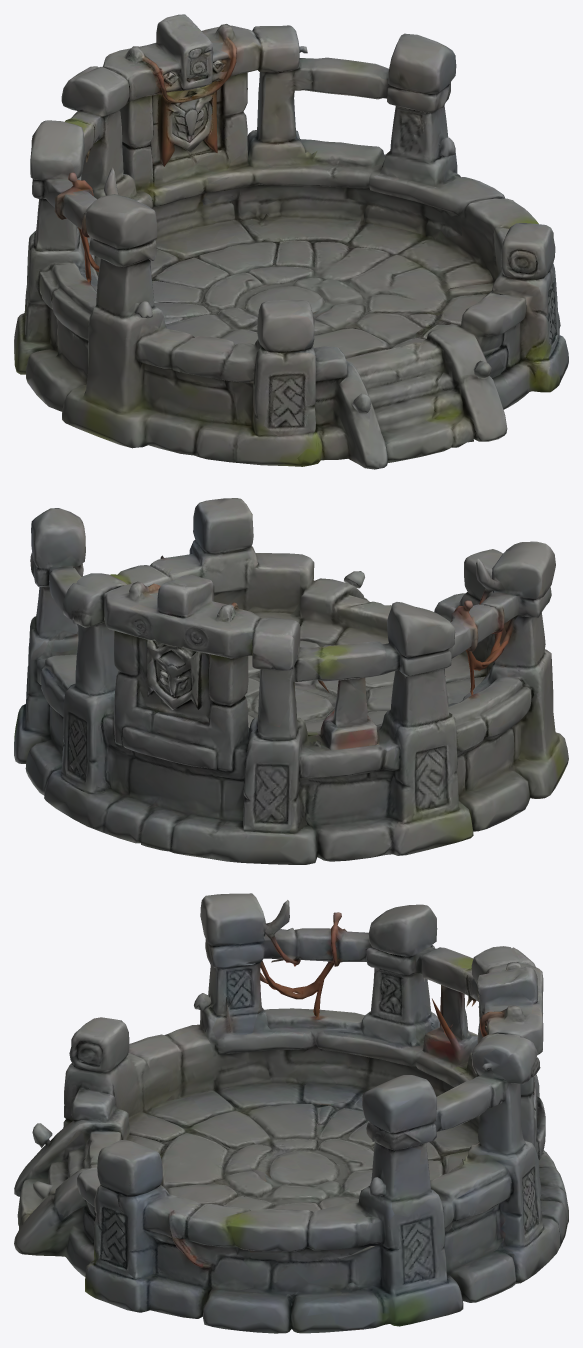
Rendered from skskskzjxjsjs.fbx.
The picture shows the model from 3 angles, top to bottom: view 1: azimuth 30°, elevation 25°; view 2: azimuth 150°, elevation 25°; view 3: azimuth 270°, elevation 25°; orthographic projection.
Visible parts, largest first — view 1: rbg_battle_area_WBK040Eb_mesh; view 2: rbg_battle_area_WBK040Eb_mesh; view 3: rbg_battle_area_WBK040Eb_mesh.
Boxes of the visible parts, bbox=[...] form: rbg_battle_area_WBK040Eb_mesh: bbox=[14, 14, 568, 469]; rbg_battle_area_WBK040Eb_mesh: bbox=[14, 498, 568, 864]; rbg_battle_area_WBK040Eb_mesh: bbox=[14, 893, 568, 1333].
Bounding box in the file's own units: 4.97 × 2.45 × 5.
Materials: 1 (1 with a texture image).
